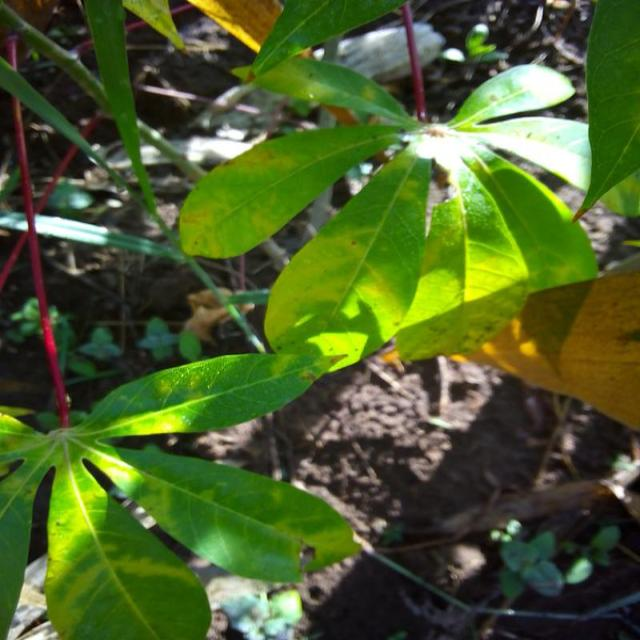cassava leaf: (178, 120, 408, 260), (573, 0, 640, 223)
